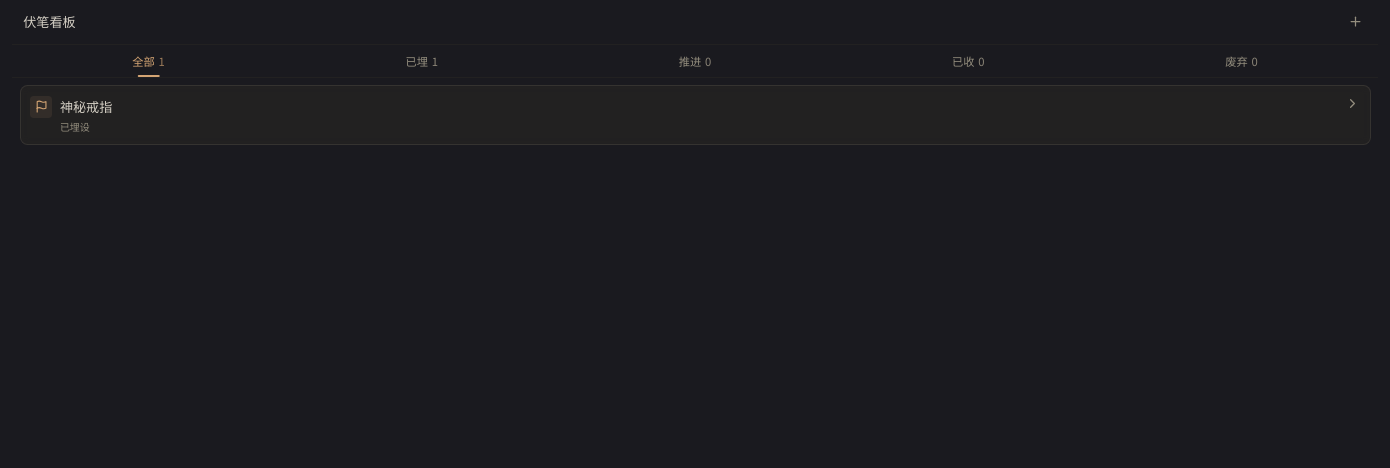
ForeshadowPanel › 筛选后无匹配项时显示"暂无伏笔"
Click the button "已收0" at [968, 61], box x1=832 y1=45 x2=1105 y2=77
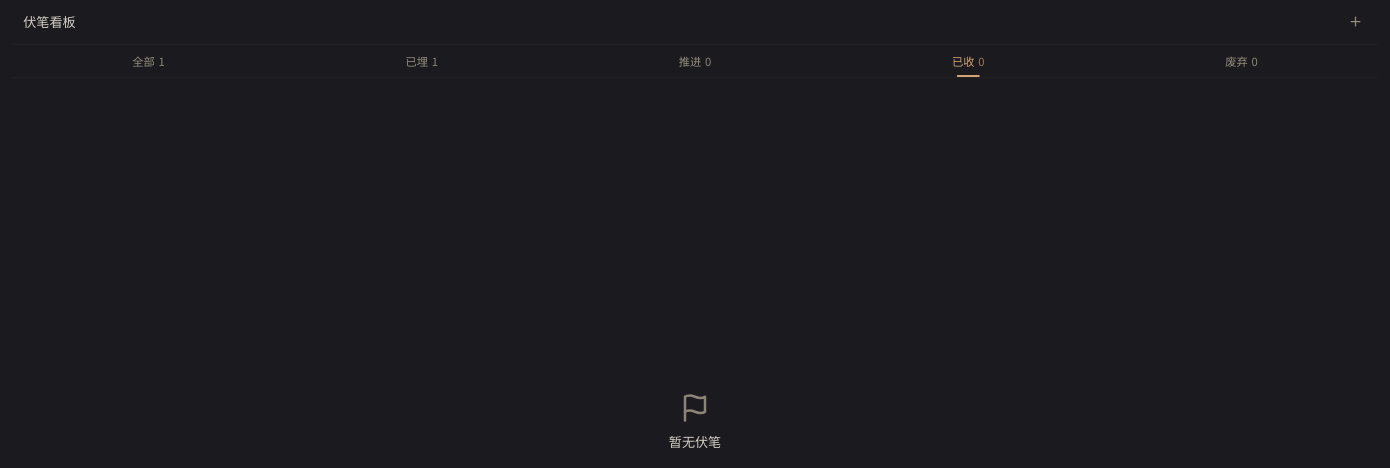
Expected: the heading "暂无伏笔" is shown, x1=669 y1=431 x2=721 y2=452
